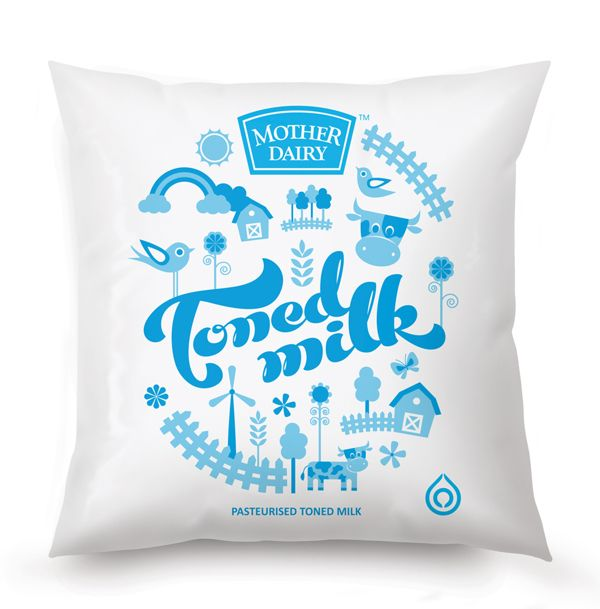Mother_Dairy: (224, 102, 373, 183)
